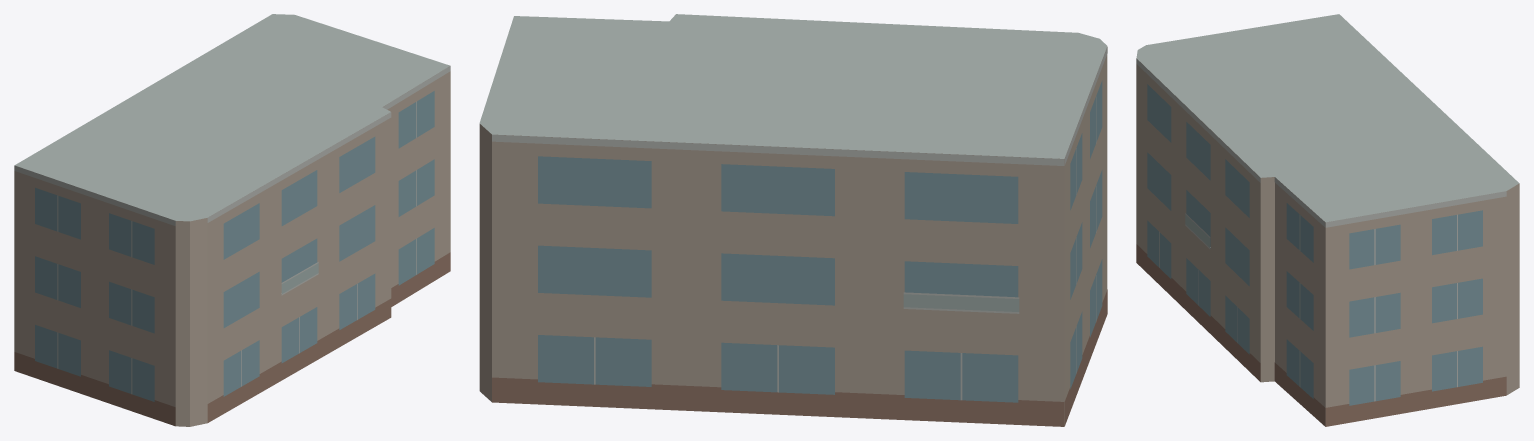
File: survey-upis-32585057.glb
3 renders of one model, left to right at view 1: azimuth 30°, elevation 25°; view 2: azimuth 150°, elevation 25°; view 3: azimuth 270°, elevation 25°, orthographic. The views are drawn at different scales.
Parts seen in each view (by area): view 1: survey-upis-32585057.tmp; view 2: survey-upis-32585057.tmp; view 3: survey-upis-32585057.tmp.
Boxes of the visible parts, x1=… form: survey-upis-32585057.tmp: x1=14, y1=14, x2=450, y2=426; survey-upis-32585057.tmp: x1=479, y1=14, x2=1107, y2=426; survey-upis-32585057.tmp: x1=1136, y1=14, x2=1519, y2=426.
Size of the model in its own units: 20.01 by 9.15 by 15.54.
